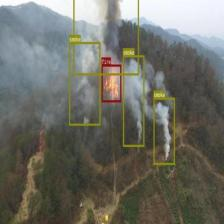fire: (102, 64, 122, 102)
smoke: (73, 0, 139, 75), (69, 42, 100, 125), (123, 55, 144, 146), (153, 97, 175, 165)
